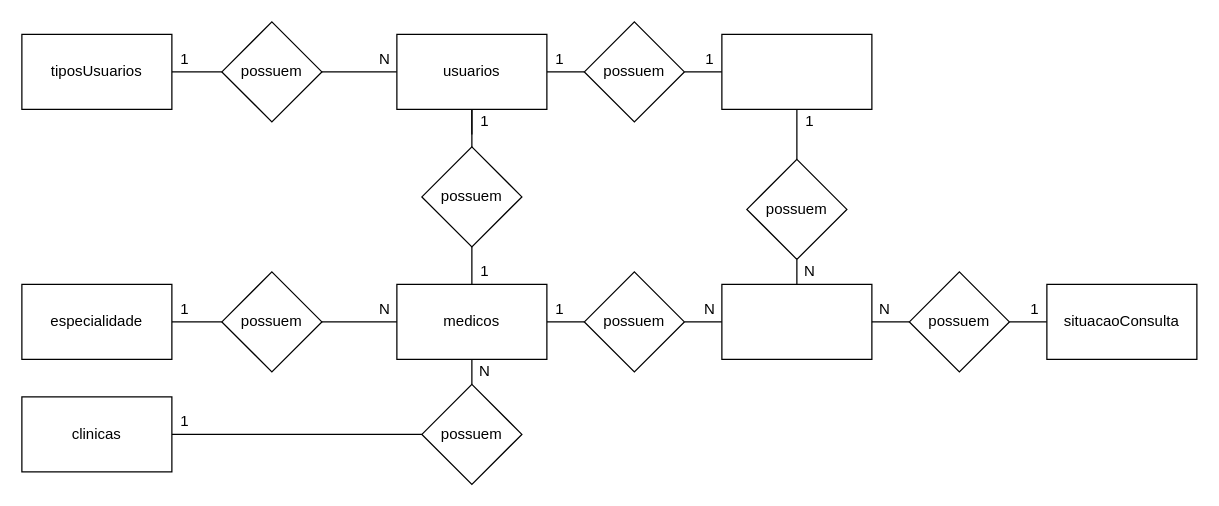
This 1219x506 diagram has some shape labels left out. The box of each missing label's shape, as (x1, y1, x2, y2) in pixels:
consulta: (721, 283, 872, 359)
paciente: (721, 33, 872, 109)
